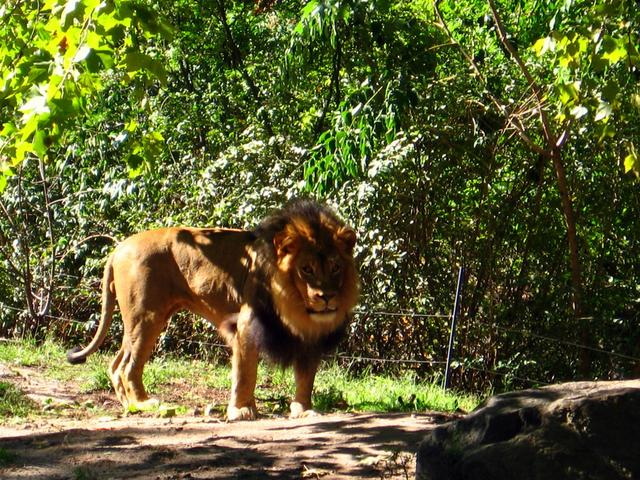lion: (43, 181, 417, 401)
